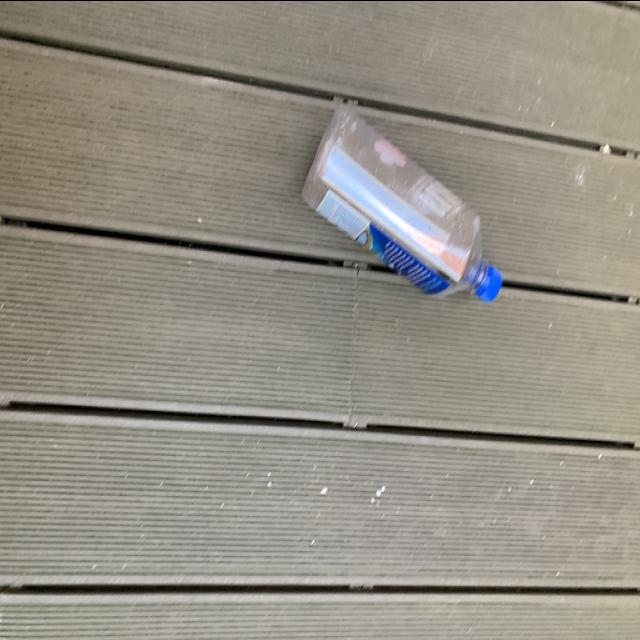litter: (299, 96, 506, 312)
